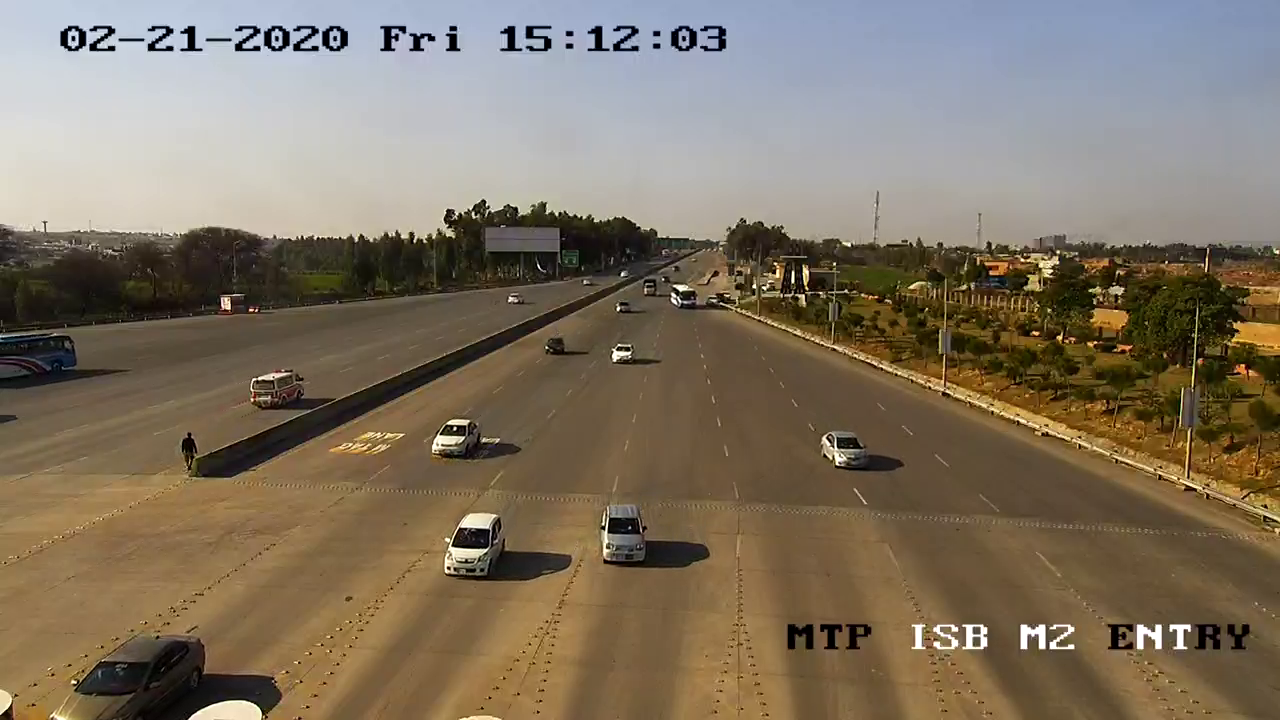f1: (433, 508, 513, 587), (595, 499, 653, 570), (816, 423, 876, 475), (427, 415, 484, 461)
